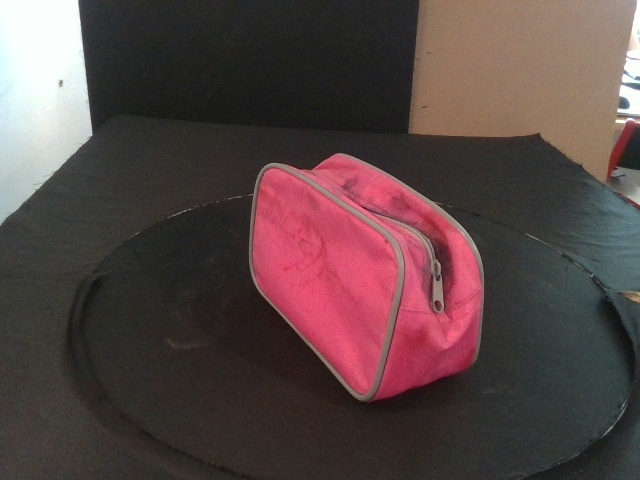pencil_case: (249, 150, 487, 401)
